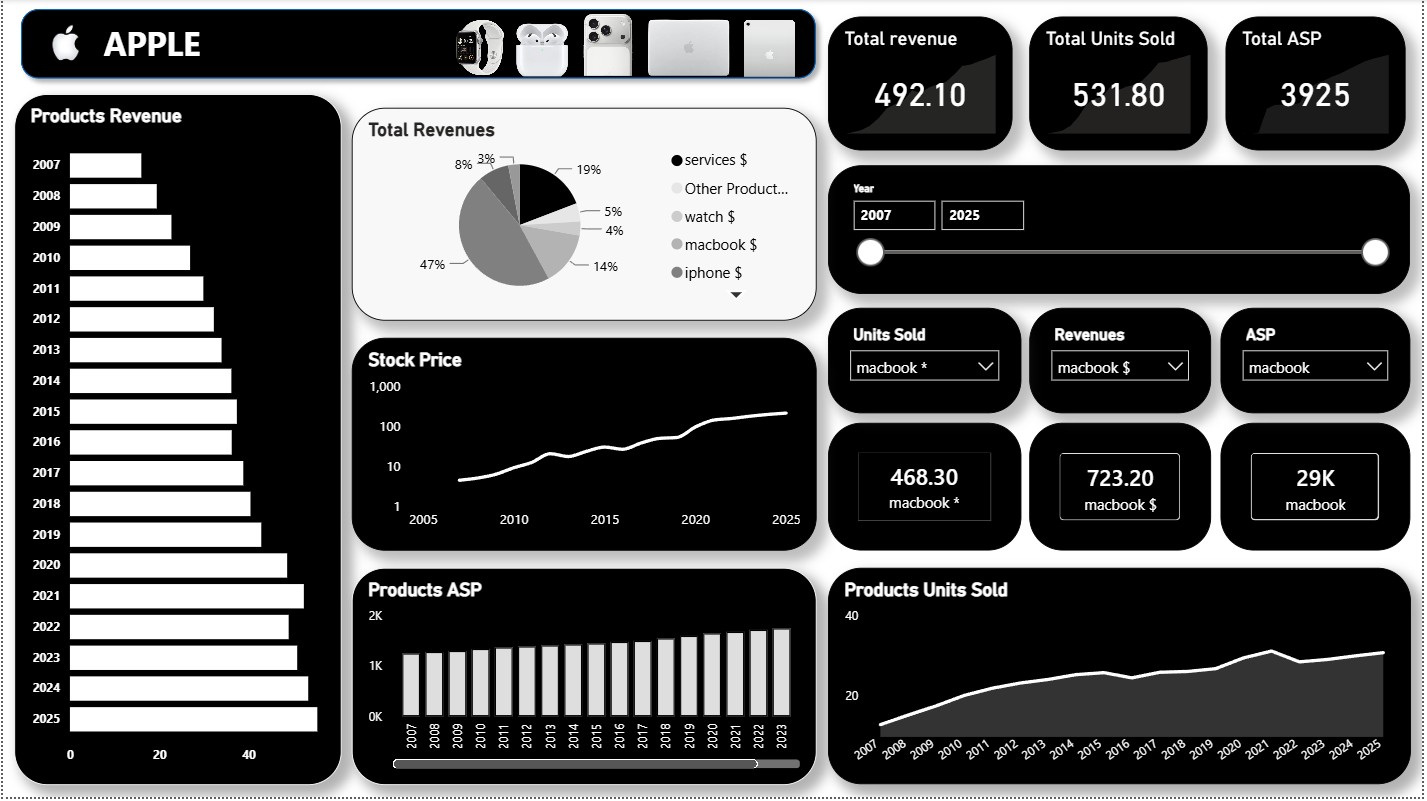

What the dashboard file says about the page in this screenshot:
{"tool":"powerbi","page":{"name":"Page 1","canvas":[1280,720],"ordinal":0},"visuals":[{"type":"barChart","title":"Products Revenue","fields":{"Category":["dim_iphone.Year"],"Y":["dim_airpods.macbook $"]},"box":[523.4,155.3,294.7,278.8],"z":0},{"type":"clusteredColumnChart","title":"Products ASP","fields":{"Category":["fact_financial (2).Year"],"Y":["dim_airpods.airpods_ASP"]},"box":[451.2,461,398.6,240.9],"z":1000},{"type":"cardVisual","fields":{"Data":["dim_airpods.macbook $"]},"box":[1107.2,0,150.7,124.6],"z":2000},{"type":"cardVisual","fields":{"Data":["dim_airpods.macbook *"]},"box":[1040.6,371.7,157.7,114.9],"z":3000},{"type":"cardVisual","fields":{"Data":["dim_airpods.airpods_ASP"]},"box":[660.9,40.6,147.8,114.5],"z":4000},{"type":"slicer","fields":{"Values":["Products Revenues.Products Revenues"]},"box":[831.5,55,152.9,85.6],"z":5000},{"type":"slicer","fields":{"Values":["Products ASP.Products ASP"]},"box":[439.1,84.1,136.2,84.1],"z":6000},{"type":"slicer","fields":{"Values":["Products Units Sold.Products Units Sold"]},"box":[880.4,402.3,146.7,84.4],"z":7000},{"type":"slicer","fields":{"Values":["fact_financial (2).Year"]},"box":[202.9,243.5,201.4,115.9],"z":8000},{"type":"kpi","title":"Total revenue ","fields":{"TrendLine":["fact_financial (2).Year"],"Indicator":["Products ASP.Total Revenues"]},"box":[21.7,243.5,162.3,139.1],"z":9000},{"type":"kpi","title":"Total ASP","fields":{"TrendLine":["fact_financial (2).Year"],"Indicator":["Products ASP.Total ASP"]},"box":[21.7,81.2,162.3,139.1],"z":10000},{"type":"kpi","title":"Total Units Sold","fields":{"Indicator":["Products ASP.Total Units Sold"],"TrendLine":["fact_financial (2).Year"]},"box":[202.9,81.2,160.9,139.1],"z":11000},{"type":"areaChart","title":"Products Units  Sold","fields":{"Y":["dim_airpods.macbook *"],"Category":["fact_financial (2).Year"]},"box":[867,500.1,391.3,201.8],"z":12000},{"type":"shape","box":[0,0,808.7,81.2],"z":13000,"group":"g1"},{"type":"pieChart","title":"Total Revenues","fields":{"Y":["Products ASP.services $","Products ASP.Other Products $","dim_airpods.watch $","dim_airpods.macbook $","dim_airpods.iphone $","dim_airpods.ipad $","dim_airpods.airpods $"]},"box":[866.7,168.1,391.3,191.3],"z":13000},{"type":"lineChart","title":"Stock Price","fields":{"Y":["Sum(fact_financial (2).Average_Stock_Price_USD_Annual)"],"Category":["fact_financial (2).Year"]},"box":[9.8,506.3,419.4,192],"z":14000},{"type":"image","box":[21.7,10.1,87,59.4],"z":14001,"group":"g1"},{"type":"group","id":"g1","title":"Group 1","box":[0,0,808.7,81.2],"z":15000}]}

Visuals, with their boxes in screenshot pixels (x1, y1, x2, y2), scaled from the page's 1280x720 canvas onto the 1427x801 screenshot:
"Products Revenue" barChart: 584, 173, 912, 483
"Products ASP" clusteredColumnChart: 503, 513, 947, 781
cardVisual - dim_airpods.macbook $: 1234, 0, 1402, 139
cardVisual - dim_airpods.macbook *: 1160, 414, 1336, 541
cardVisual - dim_airpods.airpods_ASP: 737, 45, 902, 173
slicer - Products Revenues.Products Revenues: 927, 61, 1097, 156
slicer - Products ASP.Products ASP: 490, 94, 641, 187
slicer - Products Units Sold.Products Units Sold: 982, 448, 1145, 541
slicer - fact_financial (2).Year: 226, 271, 451, 400
"Total revenue " kpi: 24, 271, 205, 426
"Total ASP" kpi: 24, 90, 205, 245
"Total Units Sold" kpi: 226, 90, 406, 245
"Products Units  Sold" areaChart: 967, 556, 1403, 781
shape: 0, 0, 902, 90
"Total Revenues" pieChart: 966, 187, 1402, 400
"Stock Price" lineChart: 11, 563, 478, 777
image: 24, 11, 121, 77
"Group 1" group: 0, 0, 902, 90
